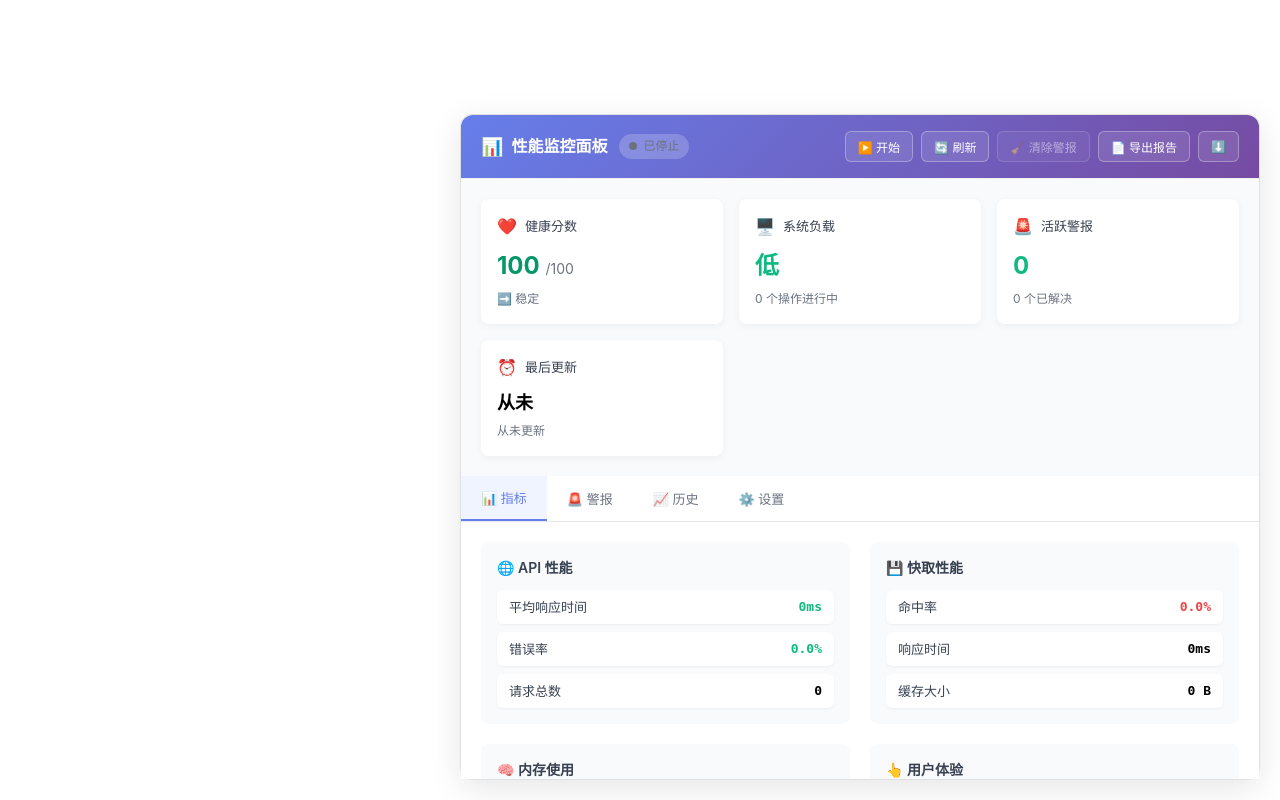
it: DevMetrics › should switch tabs correctly
Expected: the element with class "metrics-grid" is shown, [461,522,1259,779]
Click the button with class "tab-btn" showing "🚨 警报": (590,499) [547,476,633,521]
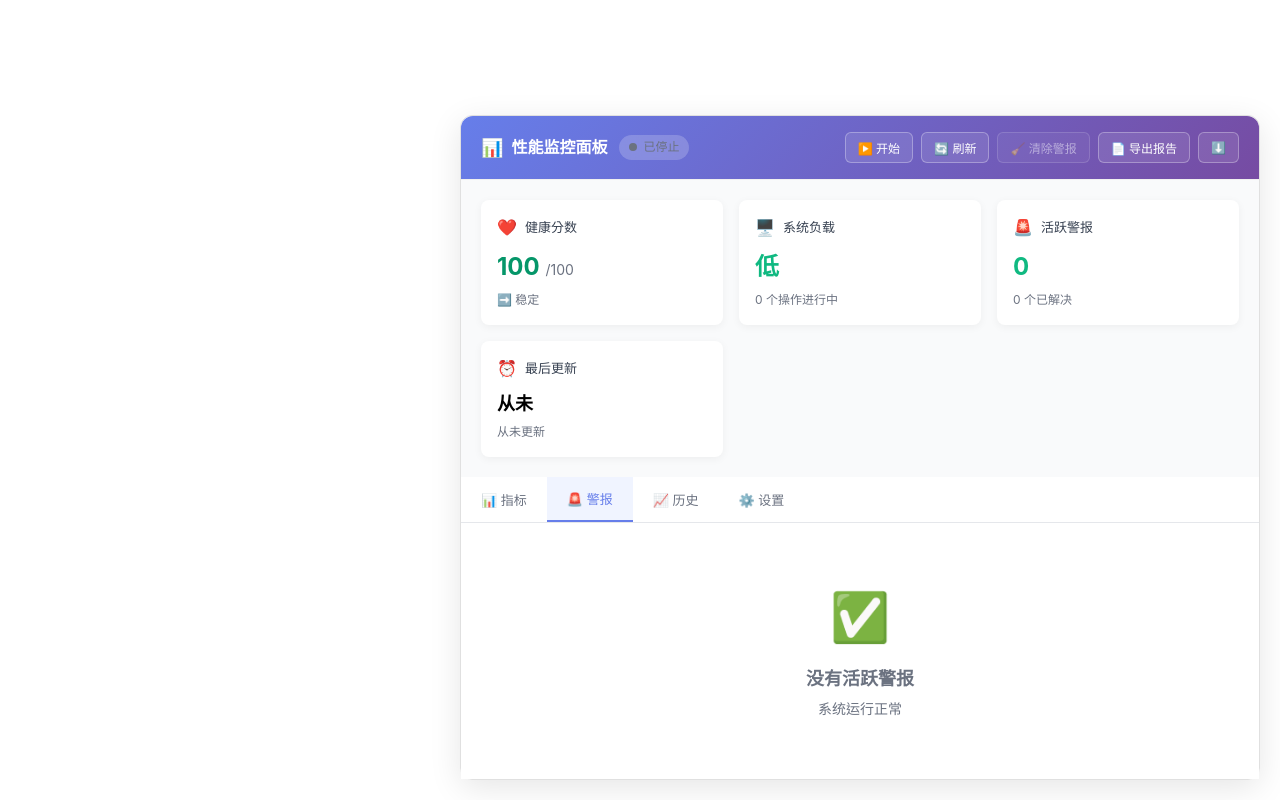
Expected: the element with class "alerts-panel" is shown, [806,587,914,717]
